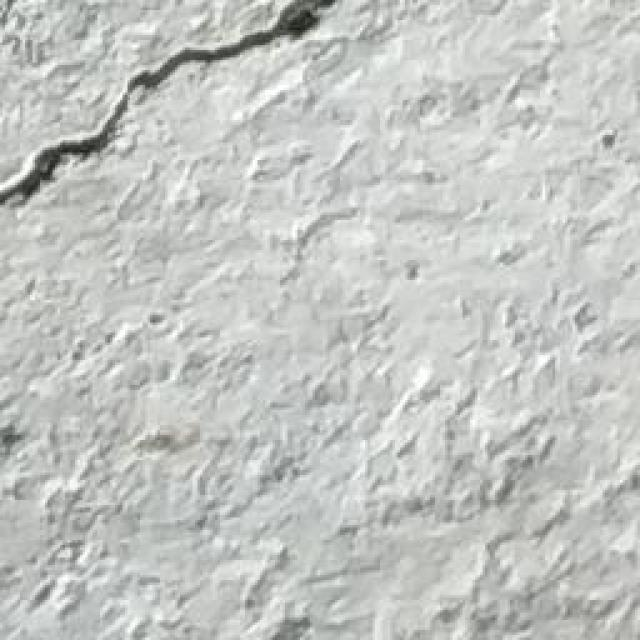Diagonal: (0, 0, 348, 227)
Rippled: (4, 232, 640, 639)
